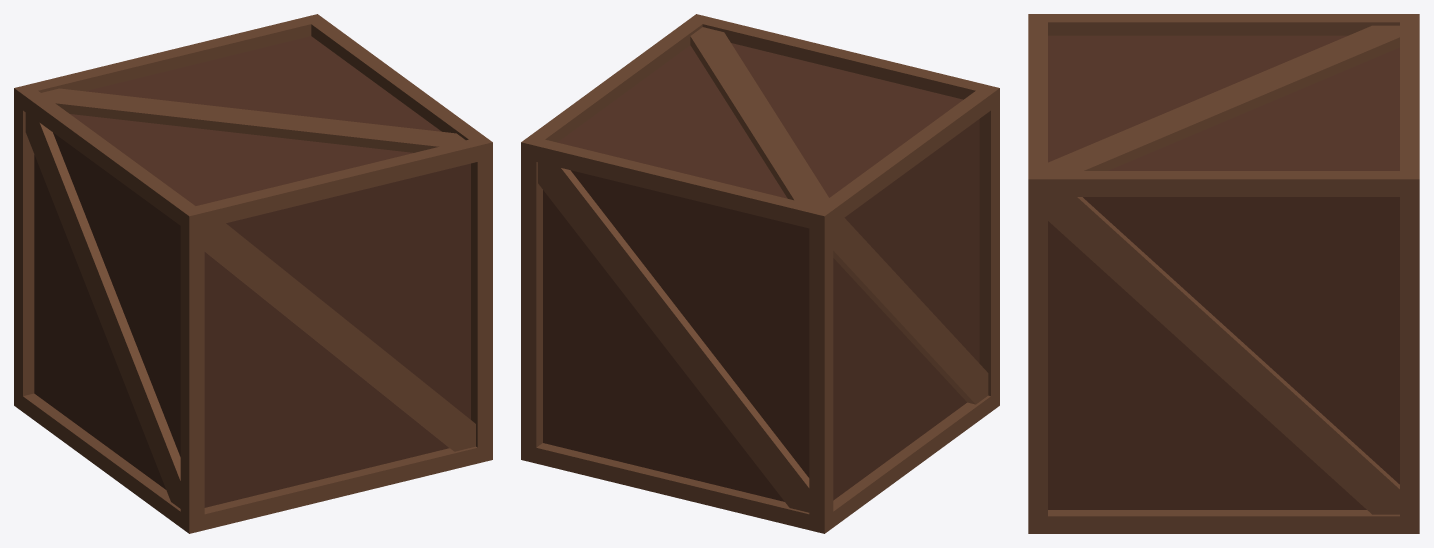
File: Crate.fbx
The picture shows the model from 3 angles, left to right: view 1: azimuth 30°, elevation 25°; view 2: azimuth 150°, elevation 25°; view 3: azimuth 270°, elevation 25°; orthographic projection. The views are drawn at different scales.
Parts seen in each view (by area): view 1: Crate; view 2: Crate; view 3: Crate.
Boxes of the visible parts, x1,y1,x2,y2 form: Crate: (14, 14, 492, 533); Crate: (521, 14, 999, 533); Crate: (1028, 14, 1419, 533).
Bounding box in the file's own units: 60 × 60 × 60.
